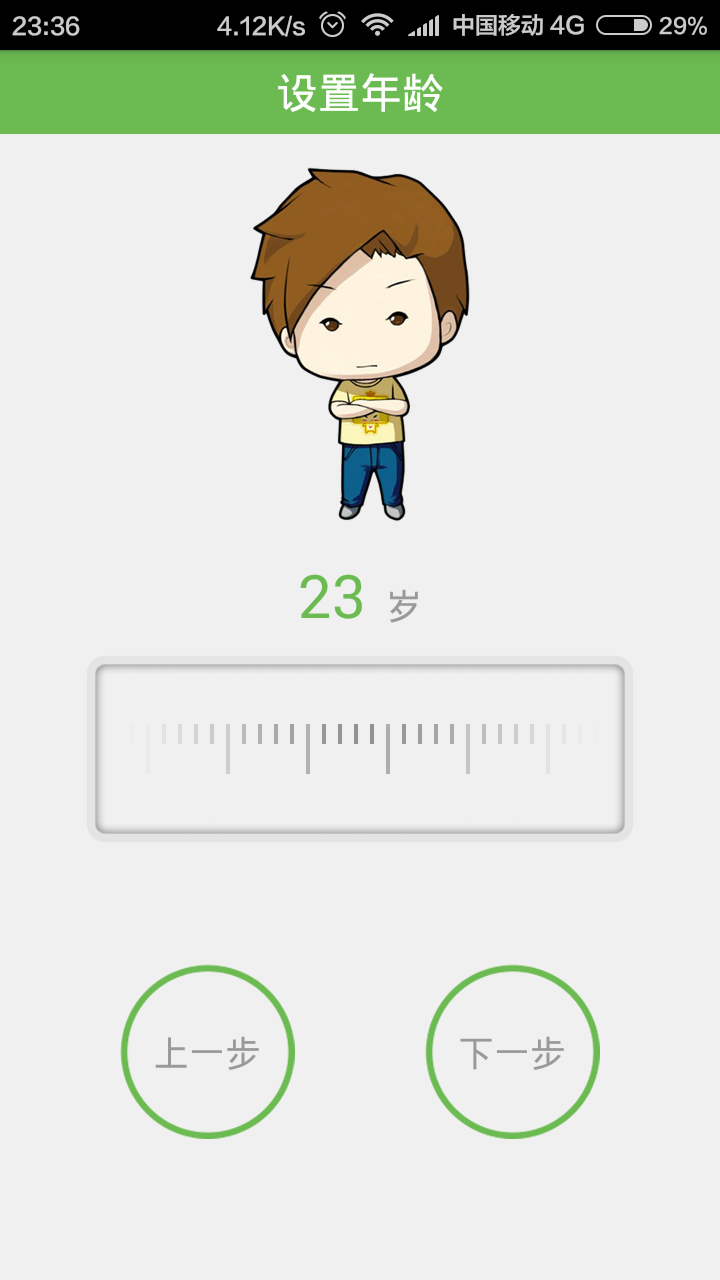imgview: (245, 156, 482, 542), (113, 956, 309, 1142), (418, 961, 608, 1144)
textview: (273, 567, 437, 635)
